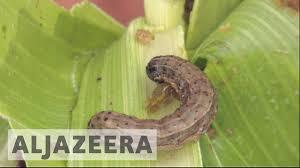fallarmy_worm: (76, 54, 223, 149)
